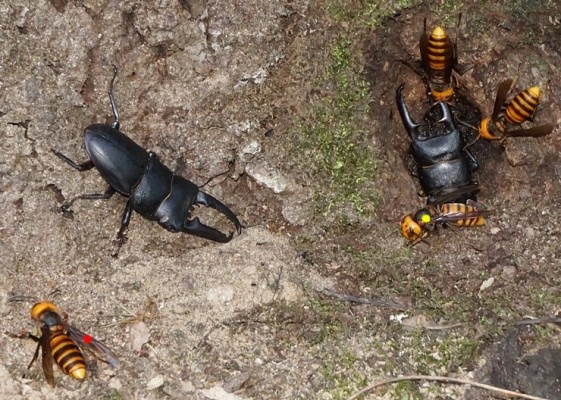asian_giant_hornet: (11, 294, 116, 388), (385, 195, 501, 246), (477, 73, 543, 146), (409, 17, 465, 103)
